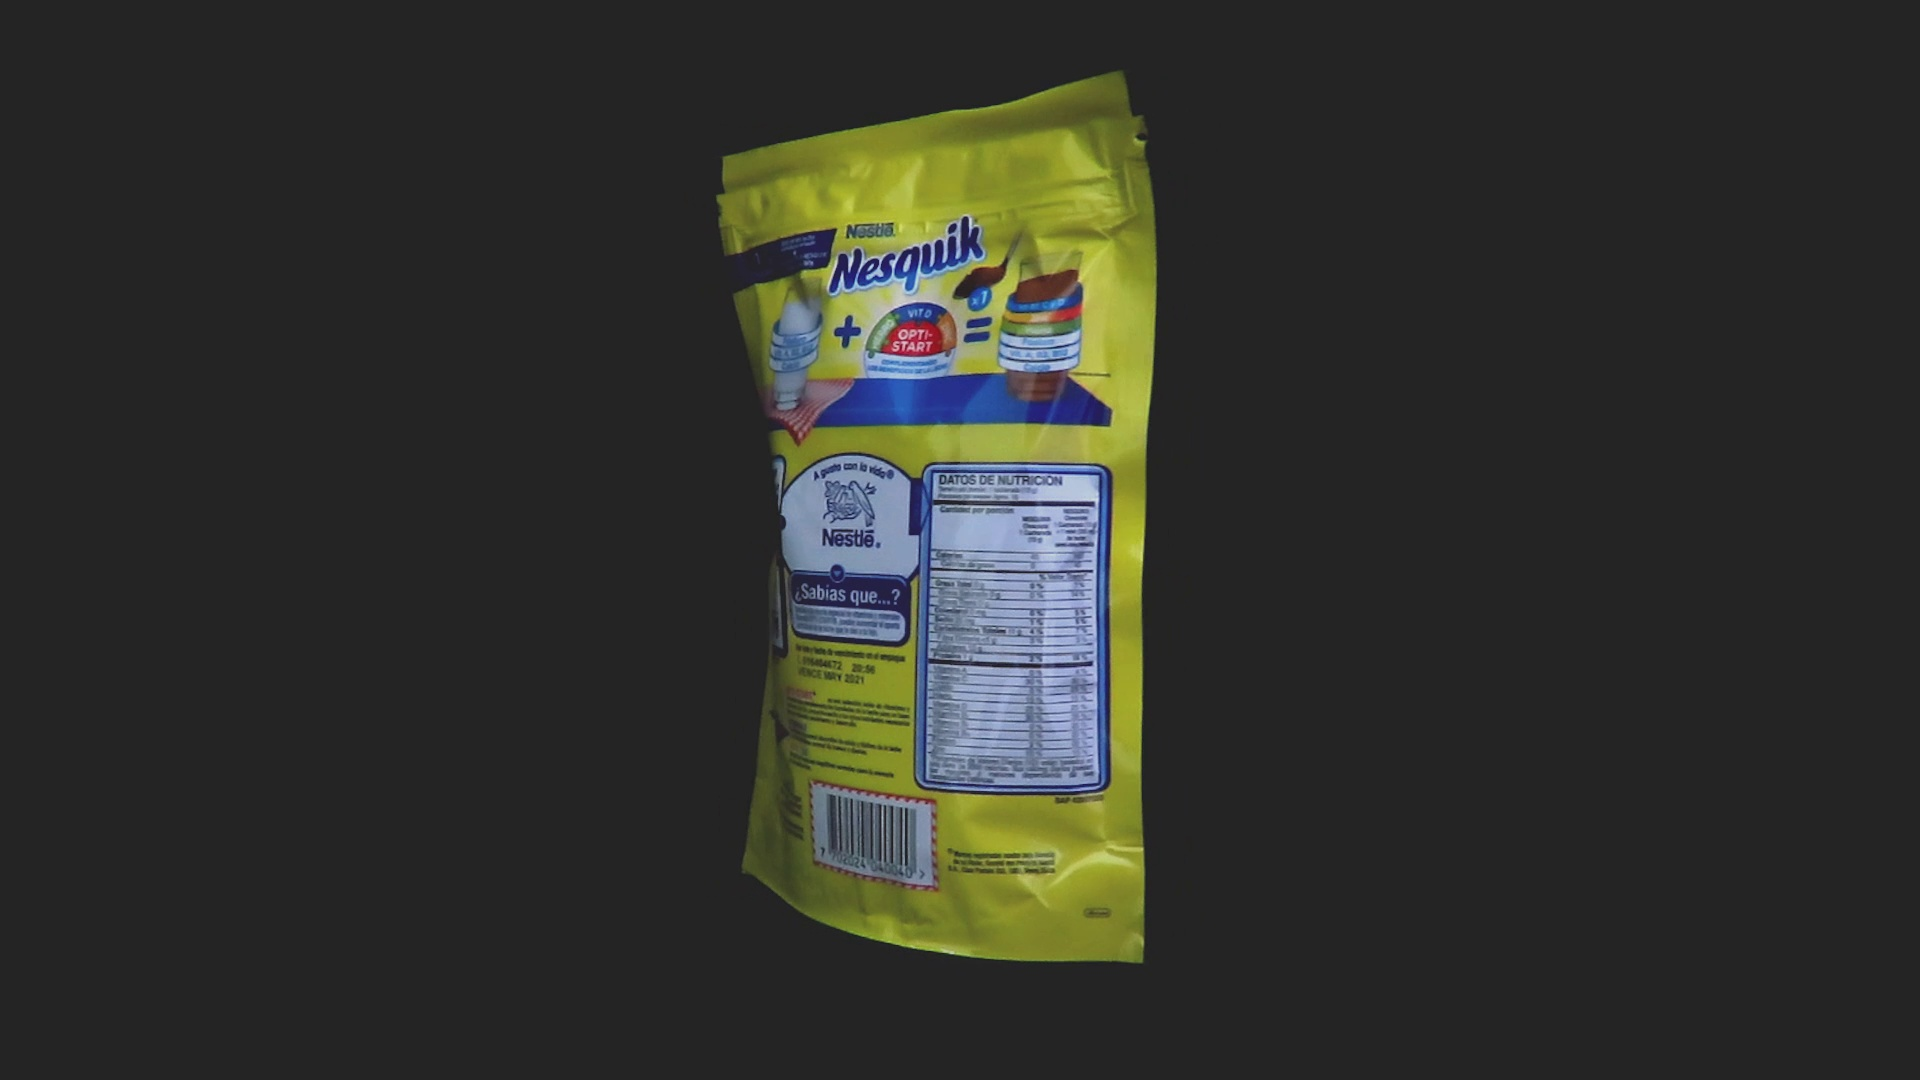COL0170303DYP20000: (711, 65, 1163, 971)
